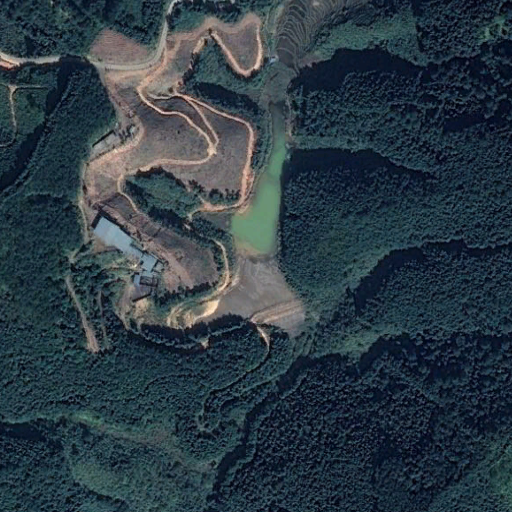tp: (179, 102, 306, 340)
